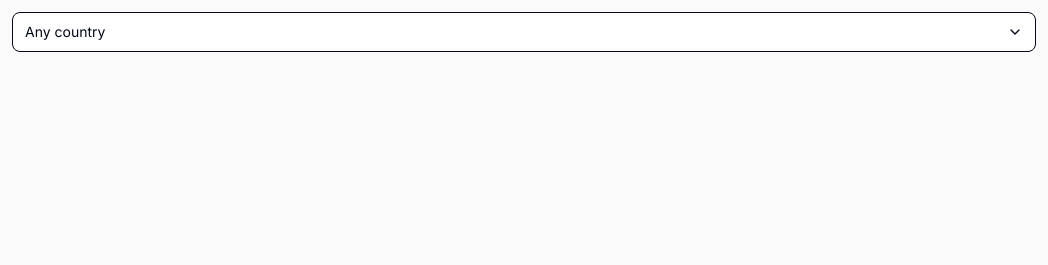
Test: SearchableSelect › supports arrow keys, Enter and Escape
The image size is (1048, 265).
Press ArrowDown in the button with test id "dd", box 12,12 -> 1036,52
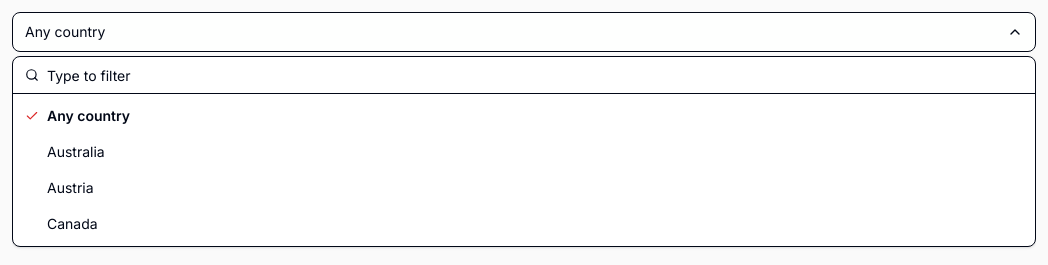
Press ArrowDown in the dropdown with test id "dd-filter", box 47,57 -> 1023,93
Press ArrowDown in the dropdown with test id "dd-filter", box 47,57 -> 1023,93
Press Enter in the dropdown with test id "dd-filter", box 47,57 -> 1023,93
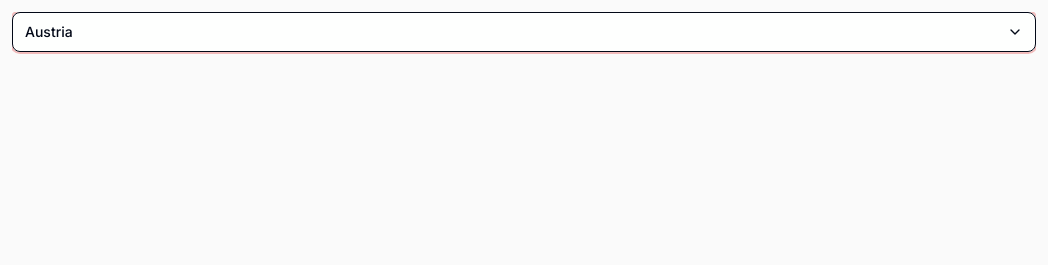
Click the button with test id "dd" at coordinates (49, 32), box 12,12 -> 1036,52
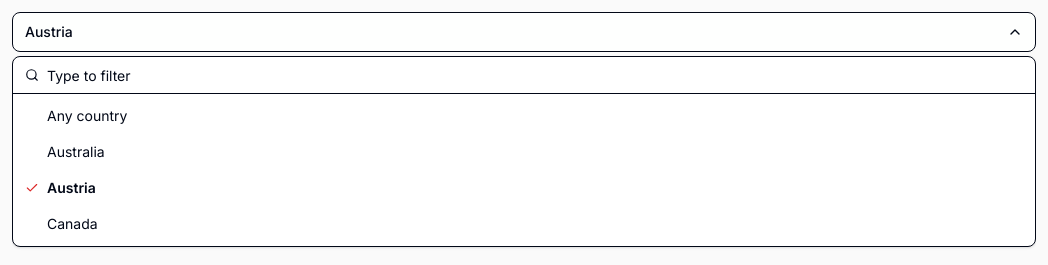
Press Escape in the dropdown with test id "dd-filter", box 47,57 -> 1023,93
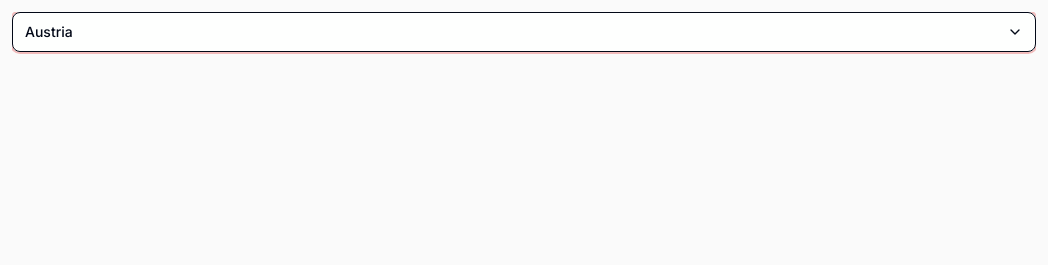
Expected: the list is gone
